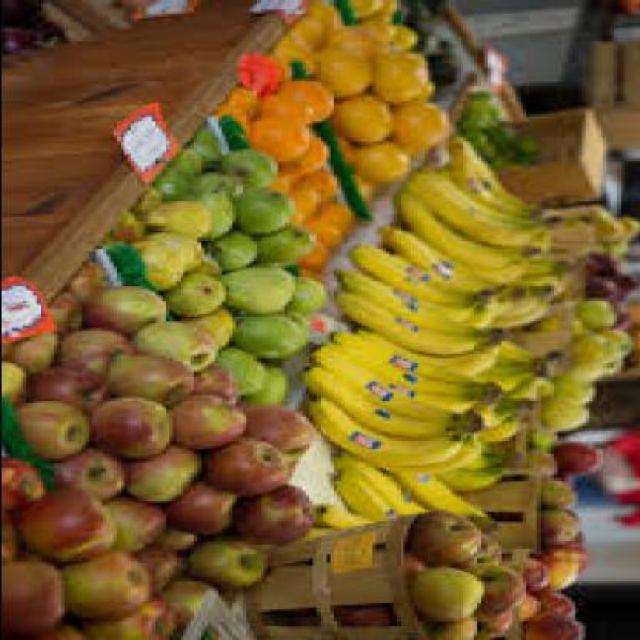BIODEGRADABLE: (342, 296, 507, 379), (409, 200, 556, 286), (308, 367, 472, 438), (314, 349, 466, 423), (388, 226, 538, 300), (332, 332, 486, 403), (413, 172, 545, 250), (308, 402, 468, 466), (339, 272, 504, 333), (445, 137, 552, 220), (353, 247, 496, 305), (21, 491, 119, 566), (332, 456, 420, 524), (67, 553, 150, 624), (395, 472, 497, 528), (228, 486, 318, 549), (3, 558, 74, 636), (206, 437, 294, 498), (92, 400, 175, 462), (122, 448, 202, 506), (172, 398, 252, 454), (14, 405, 94, 461), (190, 540, 272, 594), (412, 512, 486, 570), (161, 484, 241, 536), (112, 361, 196, 410), (490, 337, 556, 398), (49, 451, 126, 503), (88, 288, 168, 338), (140, 328, 220, 377), (248, 407, 318, 461), (32, 368, 112, 414), (440, 446, 514, 494), (224, 270, 301, 316), (161, 581, 227, 634), (83, 603, 179, 639), (63, 333, 137, 379), (7, 1, 70, 54), (238, 314, 312, 358), (314, 51, 380, 100), (416, 570, 486, 616), (140, 204, 217, 244), (336, 95, 395, 147), (109, 505, 168, 557), (493, 284, 559, 330), (378, 50, 433, 104), (392, 104, 448, 156), (164, 278, 230, 320), (235, 194, 298, 237), (3, 460, 52, 514), (126, 247, 185, 290), (256, 228, 315, 270), (472, 568, 525, 614), (480, 396, 538, 438), (256, 121, 315, 161), (220, 154, 283, 191), (143, 233, 206, 270), (357, 147, 415, 184), (283, 82, 335, 123), (238, 368, 290, 409), (277, 140, 332, 177), (542, 552, 598, 588), (185, 314, 238, 352), (137, 552, 186, 593), (594, 209, 638, 254), (223, 352, 266, 398), (14, 333, 60, 376), (207, 240, 262, 274), (577, 344, 626, 382), (409, 389, 483, 414), (196, 198, 238, 242), (270, 42, 318, 80), (44, 296, 88, 336), (552, 445, 605, 477), (262, 98, 318, 128), (522, 614, 589, 638), (542, 401, 592, 433), (294, 277, 332, 318), (294, 23, 332, 63), (4, 510, 31, 565), (542, 514, 581, 552), (308, 510, 367, 535), (469, 96, 503, 139), (192, 175, 245, 202), (196, 368, 238, 402), (70, 266, 104, 306), (556, 377, 598, 408), (305, 6, 343, 40), (343, 607, 402, 628), (322, 204, 360, 236), (305, 217, 343, 249), (598, 334, 636, 366), (580, 302, 623, 330), (588, 253, 626, 284), (500, 228, 549, 252), (4, 366, 31, 409), (196, 133, 227, 170), (154, 531, 203, 554), (546, 482, 580, 512), (525, 556, 552, 593), (480, 610, 515, 638), (213, 110, 252, 135), (332, 30, 374, 53), (304, 172, 338, 200), (158, 175, 192, 202), (538, 596, 577, 619), (515, 589, 542, 622), (178, 154, 210, 181), (528, 454, 560, 481), (11, 628, 89, 638), (432, 622, 480, 638), (371, 25, 398, 53), (294, 186, 321, 214), (305, 249, 332, 277), (232, 93, 262, 116), (346, 3, 388, 19), (615, 308, 637, 335), (500, 124, 522, 151), (136, 198, 164, 219), (399, 29, 423, 53), (535, 430, 560, 452), (592, 284, 622, 302), (412, 556, 431, 584), (119, 222, 143, 244), (612, 274, 638, 294), (270, 180, 301, 195), (489, 158, 514, 174), (518, 140, 542, 155), (368, 18, 395, 31), (515, 155, 542, 168), (388, 3, 406, 19), (479, 146, 501, 159), (465, 135, 486, 147)
